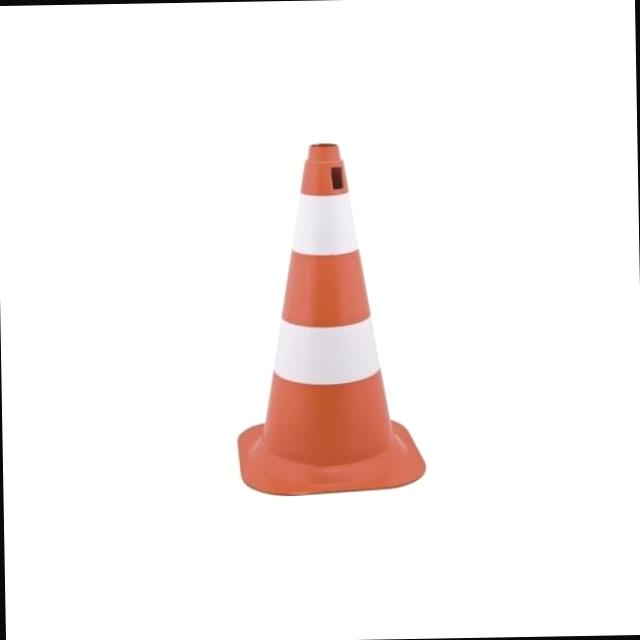cone: (222, 102, 460, 496)
